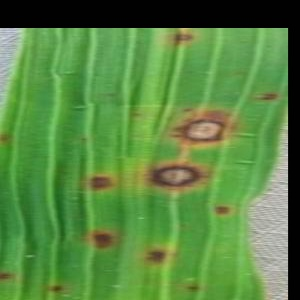Bacterial_Leaf_Blight: (139, 152, 219, 203), (164, 104, 240, 150), (83, 225, 122, 254), (85, 167, 118, 198), (142, 246, 171, 267), (167, 30, 198, 48), (211, 199, 233, 220), (252, 89, 280, 104), (45, 281, 67, 295), (98, 88, 117, 101), (186, 282, 205, 294), (0, 268, 16, 282), (0, 129, 13, 145), (178, 104, 196, 115), (129, 108, 145, 120), (77, 135, 87, 144)
